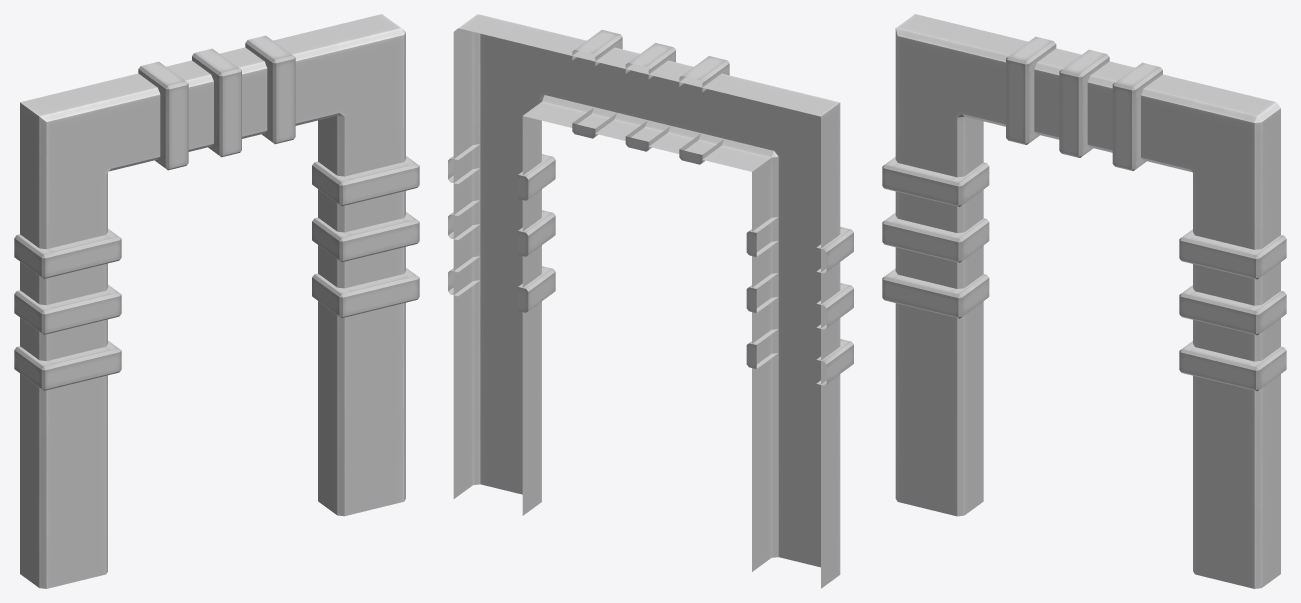
File: DoorFrameLight05_2.FBX
The picture shows the model from 3 angles, left to right: view 1: azimuth 30°, elevation 25°; view 2: azimuth 150°, elevation 25°; view 3: azimuth 330°, elevation 25°; orthographic projection.
Parts seen in each view (by area): view 1: DoorFrameLight05_2; view 2: DoorFrameLight05_2; view 3: DoorFrameLight05_2.
Boxes of the visible parts, x1=… form: DoorFrameLight05_2: x1=14, y1=14, x2=419, y2=588; DoorFrameLight05_2: x1=448, y1=14, x2=853, y2=588; DoorFrameLight05_2: x1=882, y1=14, x2=1286, y2=588.
Bounding box in the file's own units: 247 × 299 × 32.5.
